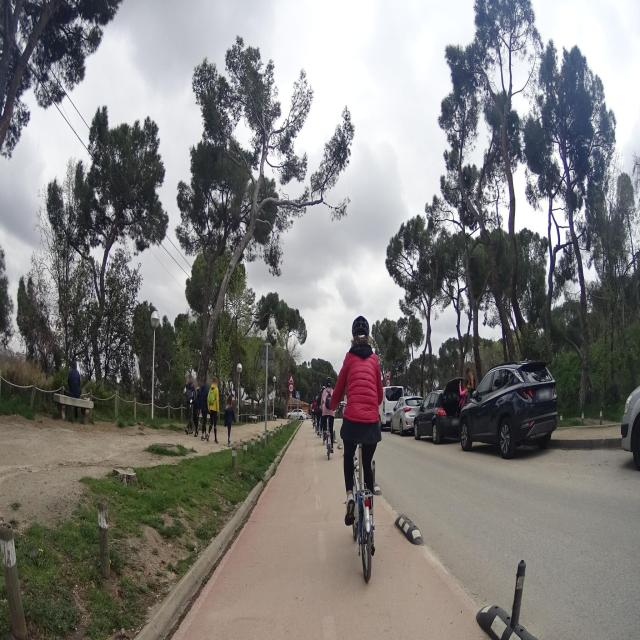bike: (333, 406, 382, 586)
car: (459, 358, 559, 457), (413, 384, 463, 444), (620, 344, 640, 474), (390, 394, 424, 436), (379, 384, 404, 429)
